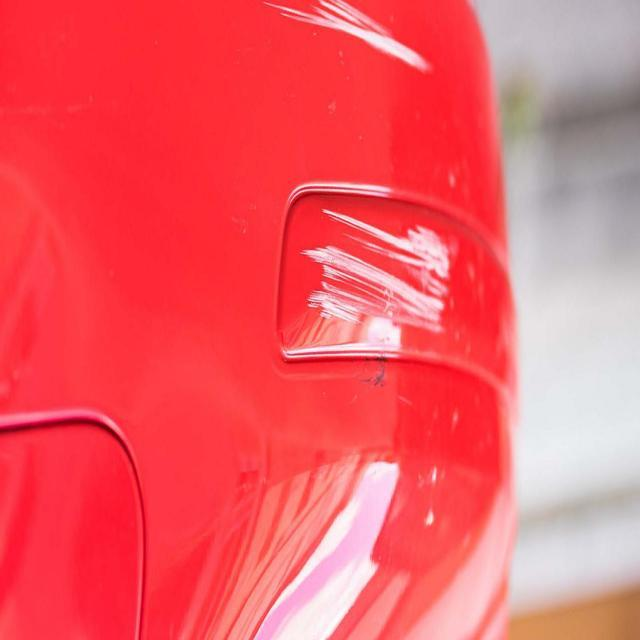scratch: (292, 206, 458, 360), (262, 1, 432, 70)
